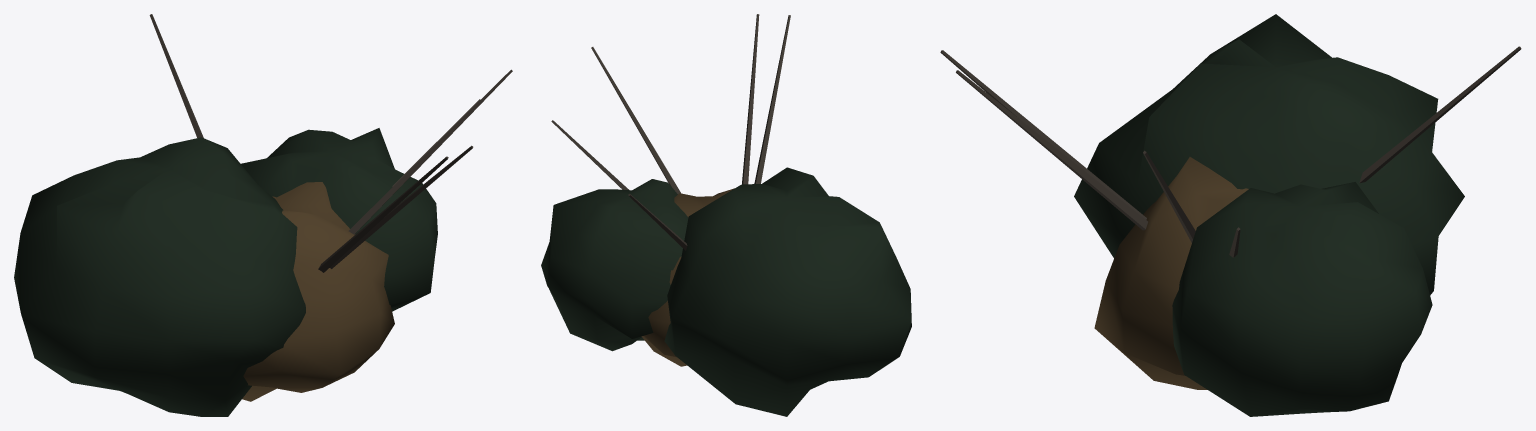
The model's file is SM_ENV_ArbustoB.fbx.
The picture shows the model from 3 angles, left to right: view 1: azimuth 30°, elevation 25°; view 2: azimuth 150°, elevation 25°; view 3: azimuth 270°, elevation 25°; orthographic projection. The views are drawn at different scales.
Visible parts, largest first — view 1: SM_ENV_ArbustoB; view 2: SM_ENV_ArbustoB; view 3: SM_ENV_ArbustoB.
Part boxes in pixels (x1,y1,x2,y2): SM_ENV_ArbustoB: [14, 14, 512, 416]; SM_ENV_ArbustoB: [541, 14, 911, 416]; SM_ENV_ArbustoB: [940, 14, 1521, 416].
Size of the model in its own units: 1.24 by 0.8619 by 1.18.
